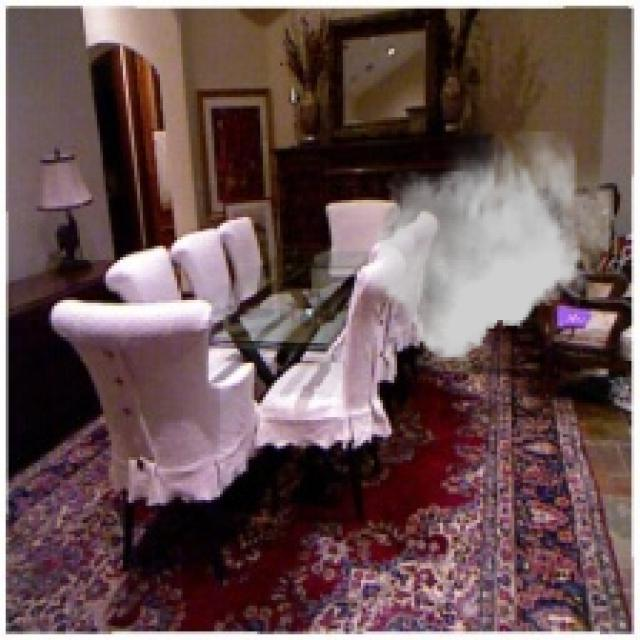Smoke: (374, 131, 614, 360)
